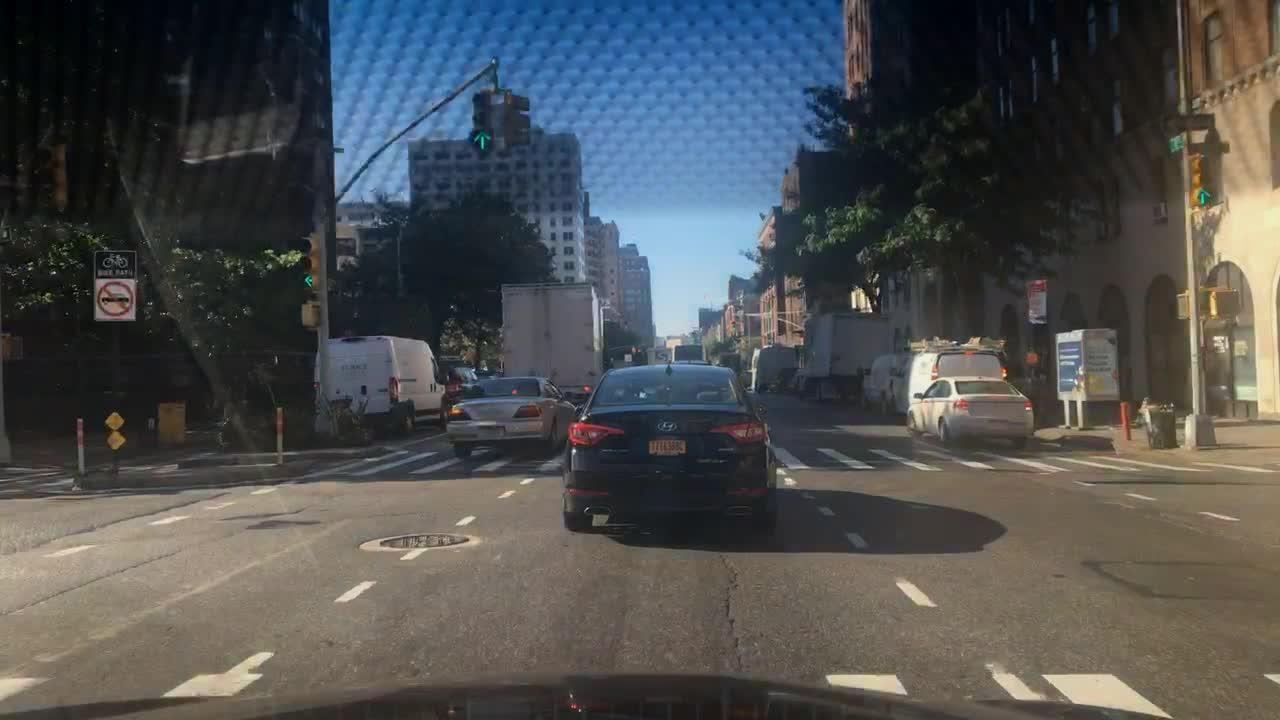Hyundai: (655, 416, 684, 437)
